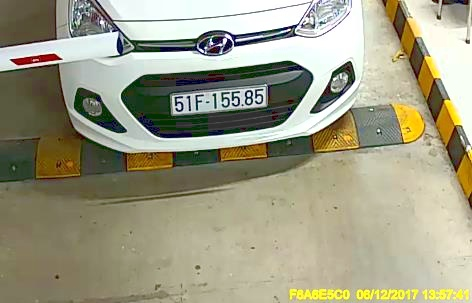plate: (165, 82, 272, 118)
